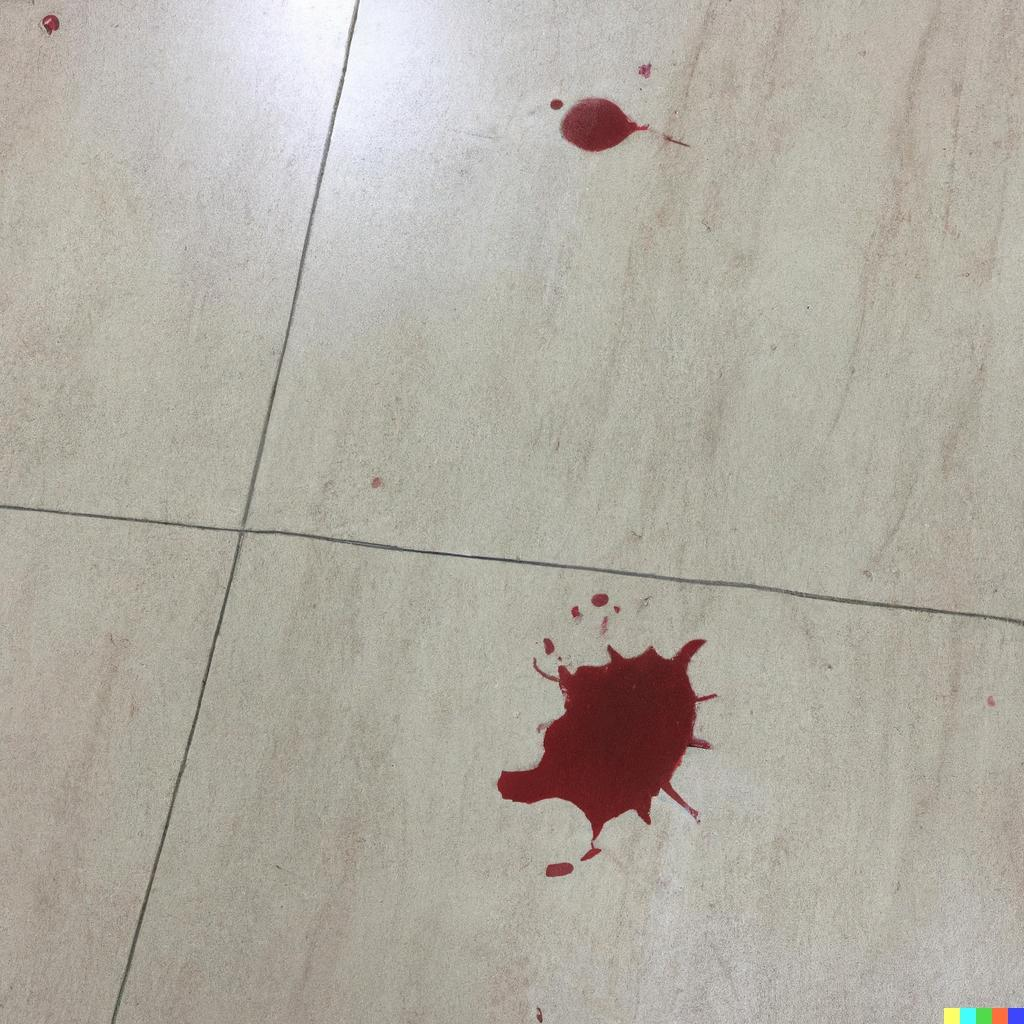Fire: (495, 638, 718, 861), (560, 97, 648, 152), (545, 862, 574, 877), (591, 592, 610, 607), (542, 638, 554, 655), (549, 98, 563, 110), (570, 605, 580, 618)
